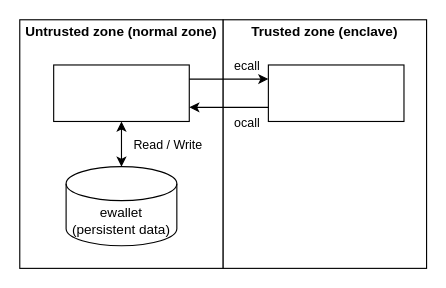
Image size: 446x288. Some labels were removed from this diagram. Here are the shapes that lost their labels. From the top down, the box of each, then its label:
(53, 64, 189, 121): APP (untrusted code/data)
(267, 64, 404, 121): Enclave (trusted code/data)
